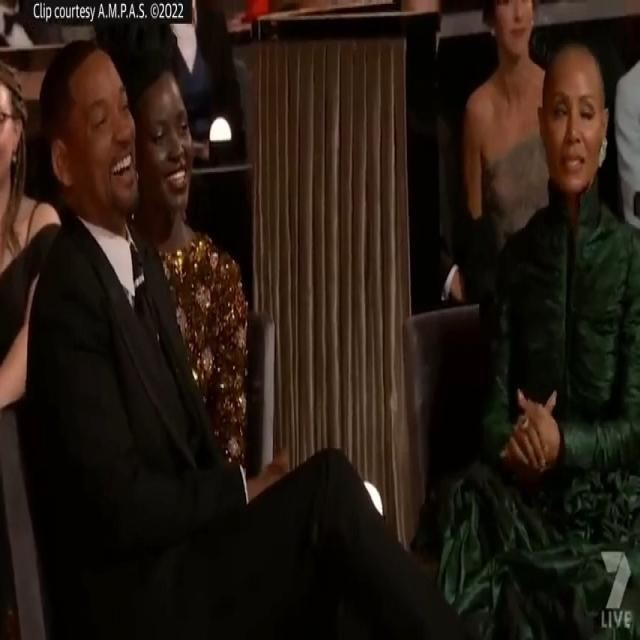non-fight: (28, 34, 640, 640)
